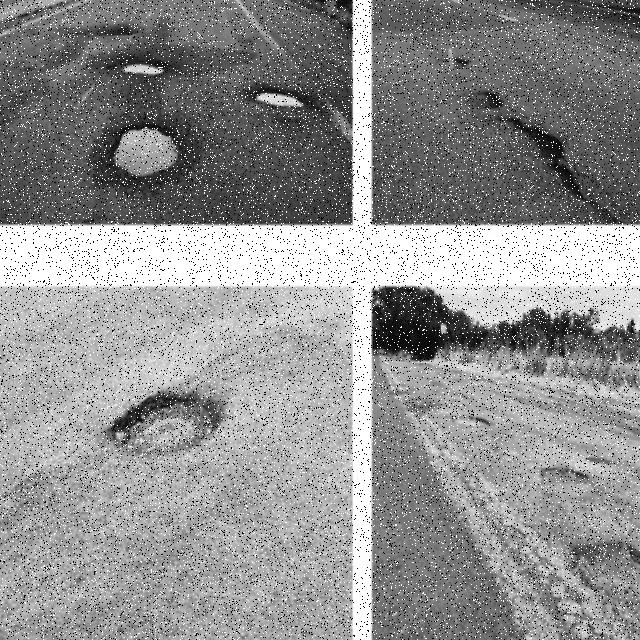pothole: (478, 114, 617, 223), (108, 392, 225, 459), (106, 122, 186, 181), (569, 540, 640, 606), (248, 87, 308, 112), (539, 466, 593, 488), (117, 59, 169, 78), (456, 91, 504, 111), (450, 415, 493, 428), (434, 56, 469, 71)
